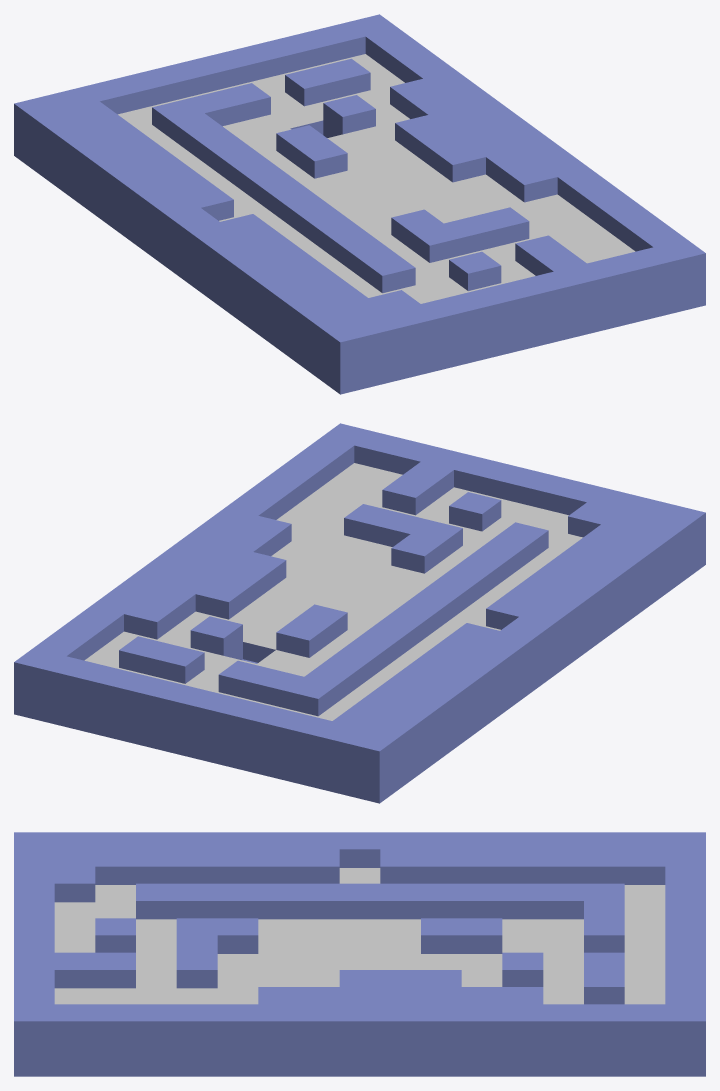
Rendered from 038_platform.fbx.
3 renders of one model, top to bottom at view 1: azimuth 30°, elevation 25°; view 2: azimuth 150°, elevation 25°; view 3: azimuth 270°, elevation 25°, orthographic. The views are drawn at different scales.
Parts seen in each view (by area): view 1: Grid; view 2: Grid; view 3: Grid.
Part boxes in pixels (x1,y1,x2,y2): Grid: [14, 14, 705, 394]; Grid: [14, 423, 705, 803]; Grid: [14, 832, 705, 1076].
Bounding box in the file's own units: 1100 × 150 × 1700.
